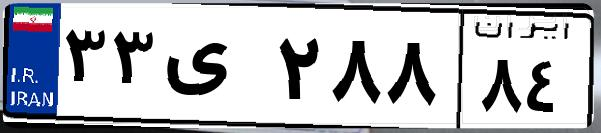2: (270, 28, 330, 110)
3: (57, 26, 110, 100), (110, 28, 158, 98)
4: (525, 38, 570, 115)
8: (385, 28, 445, 110), (330, 28, 385, 110), (475, 38, 525, 113)
ی: (158, 20, 270, 120)
